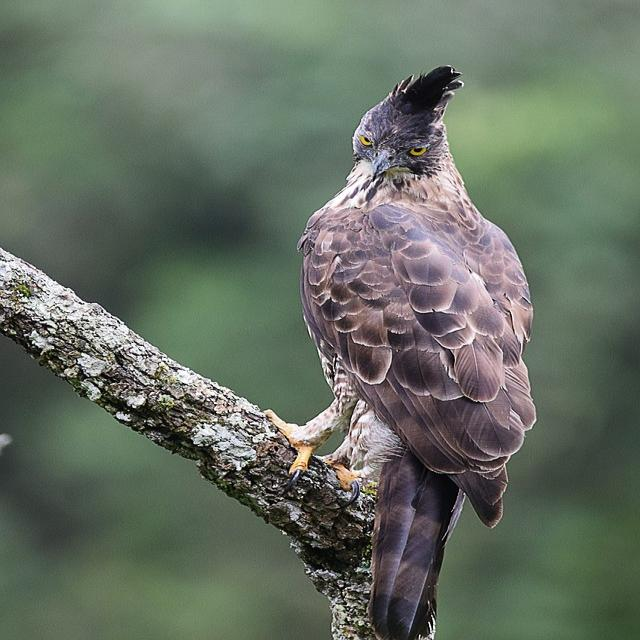Elang Jawa: (235, 48, 552, 640)
